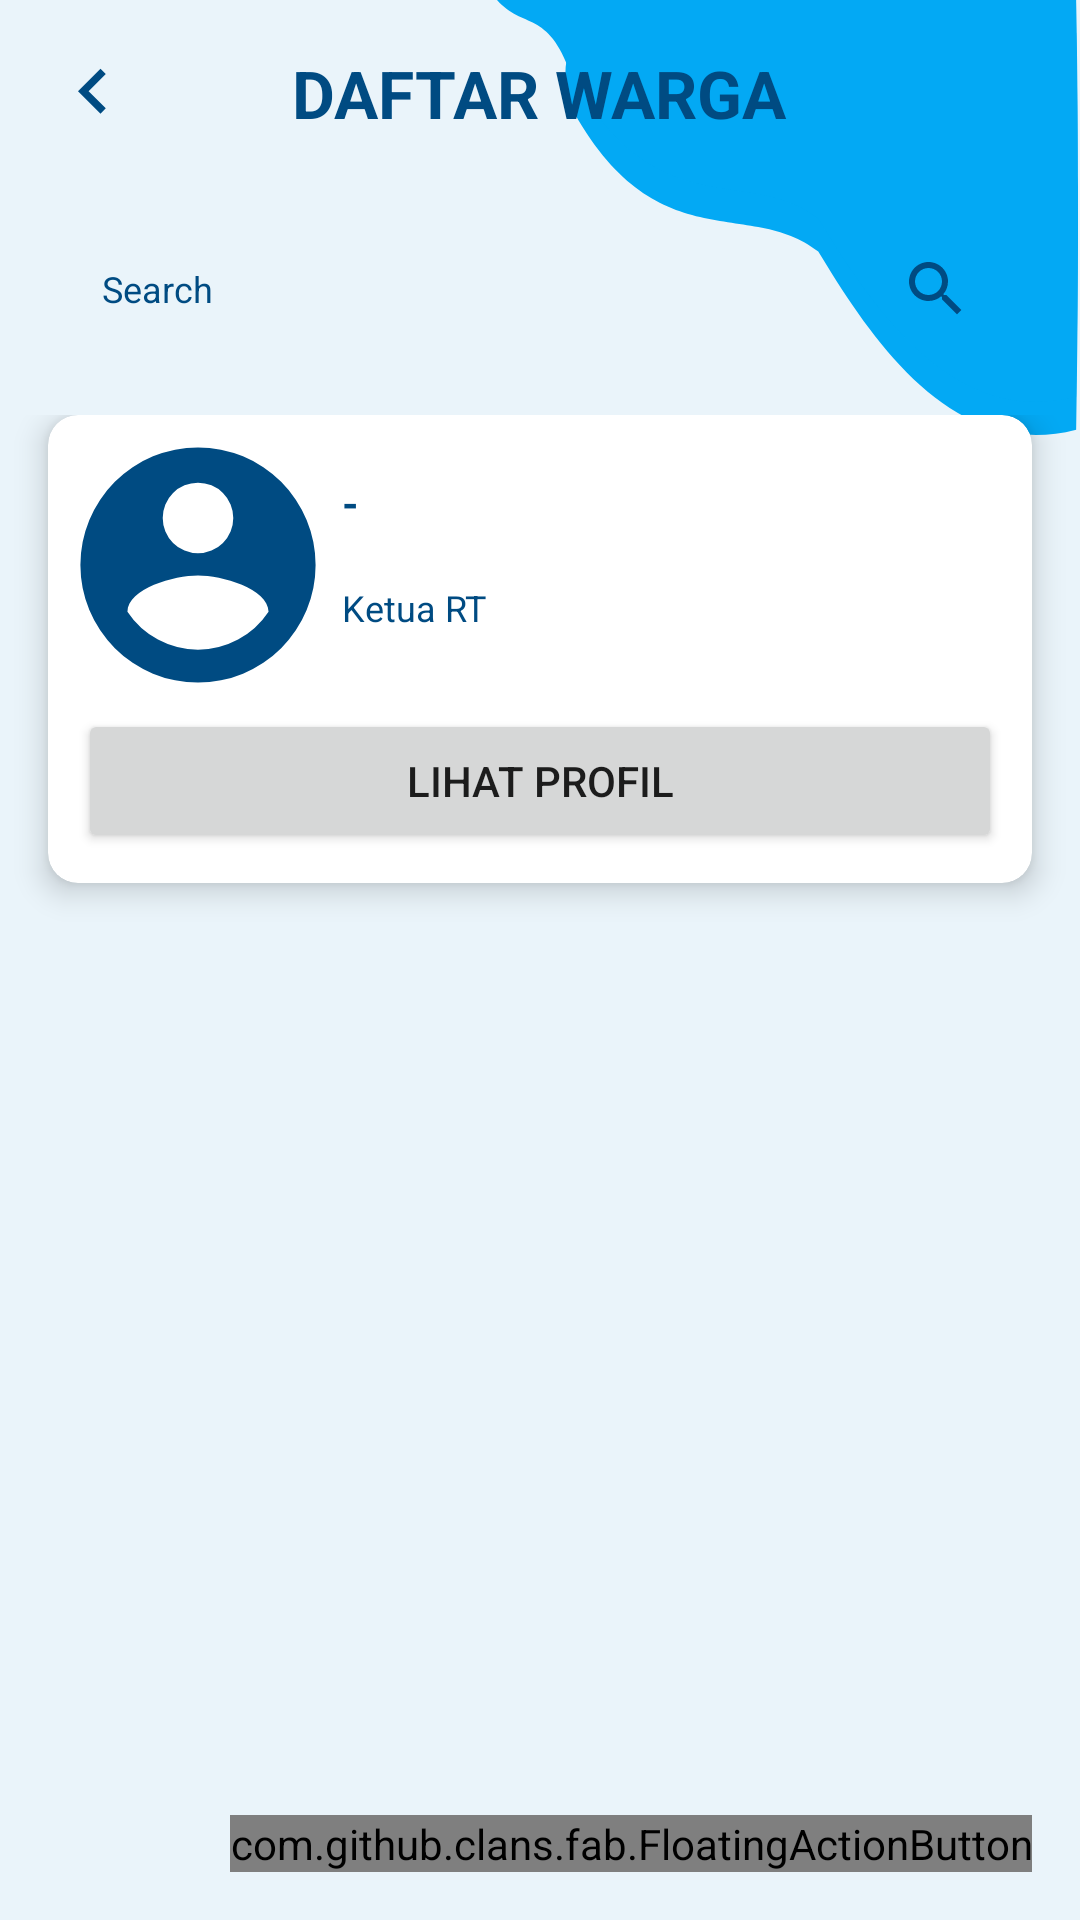

Icon click points for this 1080 x 1920 phone screenshot, format (x=x, y=y):
account circle: (x=198, y=565)
keyboard arrow left: (x=92, y=91)
search: (x=935, y=288)
